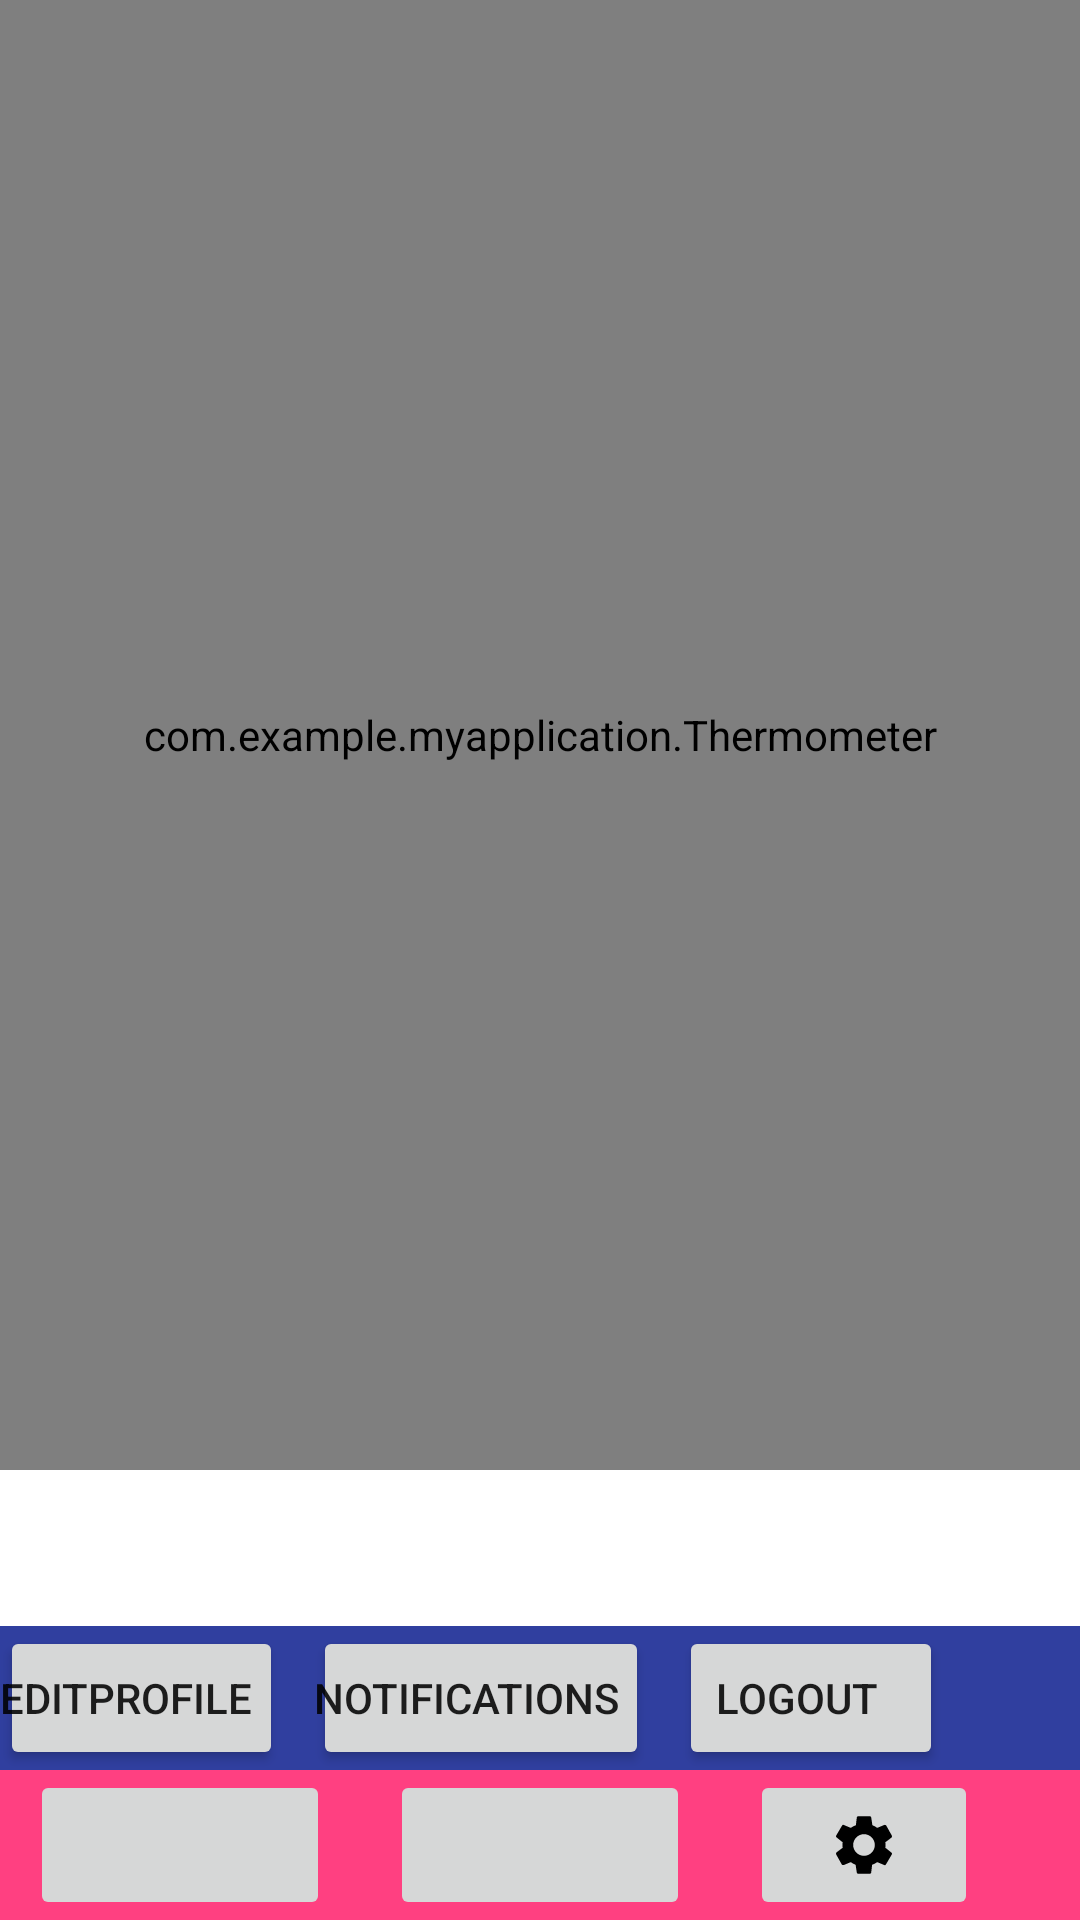

Where to tap for icons on this 1080*1920 app screen, as (x,y):
settings: (864,1845)
